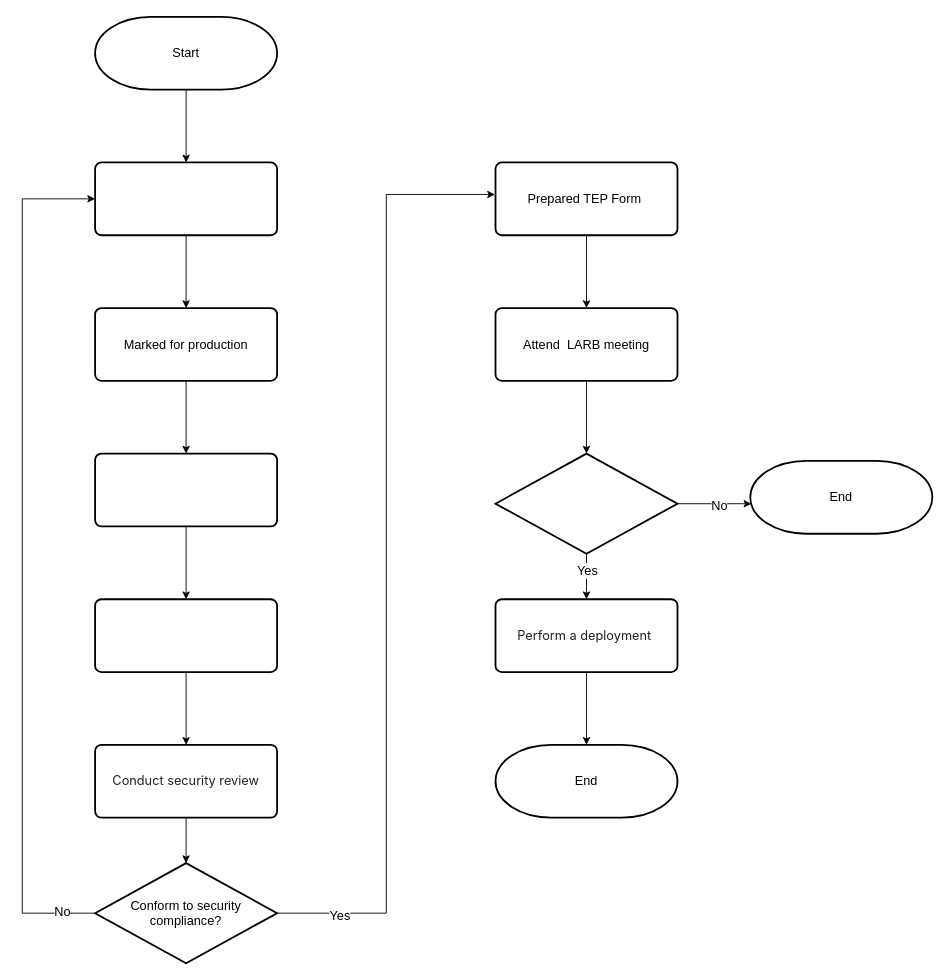
Some shapes in this 949 by 979 pixel diagram are drawn without their labels. Here are the shapes that lost their labels. From the top down, the centre of each, then its label:
the point at 186,198: Develop a feature
the point at 186,489: Request for security review
the point at 586,503: Approve the changes for Production?
the point at 186,635: Schedule for security review
